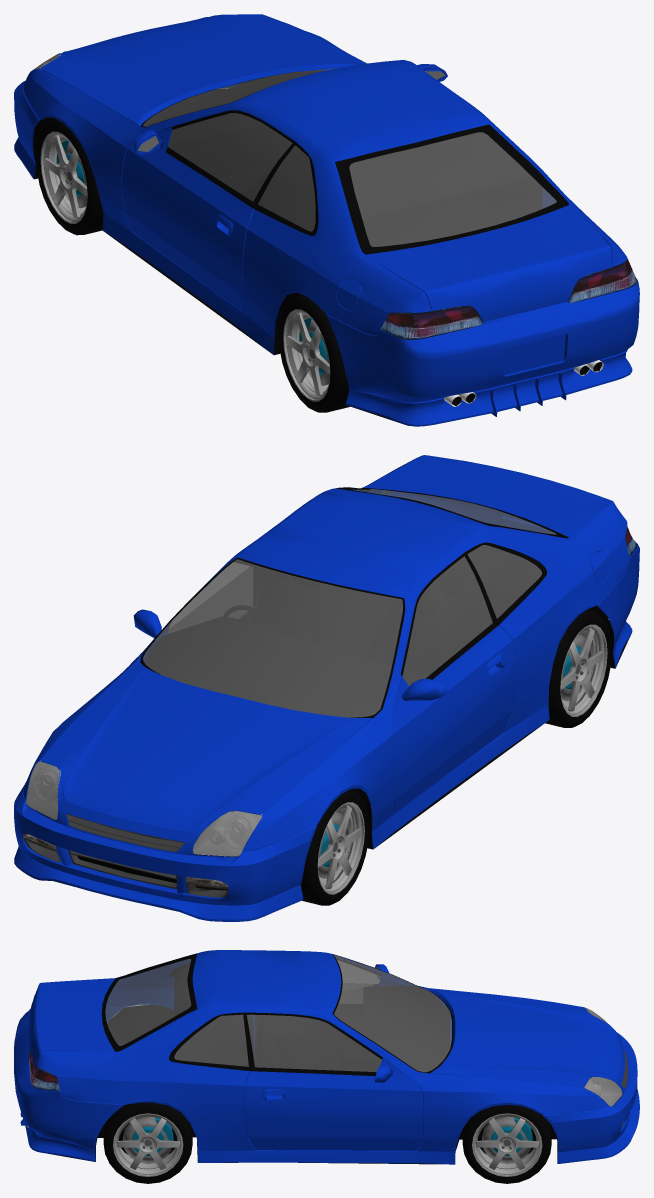
Rendered from prelude_lo.glb.
3 views of the same model, one above another, from view 1: azimuth 30°, elevation 25°; view 2: azimuth 150°, elevation 25°; view 3: azimuth 270°, elevation 25° (orthographic). The views are drawn at different scales.
Parts seen in each view (by area): view 1: body_Black_Metal_Paint_0, body_black4_0, body_Glass.001_0, object 6, fusedwheel_1 (×2), fusedwheel_3 (×2), object 9, mirrors_Black_Metal_Paint_0; view 2: body_Black_Metal_Paint_0, body_Glass.001_0, body_black4_0, Object_5_leather_black.001_0, fusedwheel_1 (×2), fusedwheel_3 (×2), object 6, body_glaaa_0, object 4, mirrors_Black_Metal_Paint_0; view 3: body_Black_Metal_Paint_0, body_Glass.001_0, body_black4_0, fusedwheel_0 (×4), fusedwheel_2 (×4), object 6, Object_5_leather_black.001_0, body_glaaa_0, object 9.
Boxes of the visible parts, box(x1,y1,x2,y2) form: body_Black_Metal_Paint_0: box(14, 14, 639, 426); body_black4_0: box(33, 70, 611, 421); body_Glass.001_0: box(143, 68, 556, 246); object 6: box(141, 70, 568, 254); fusedwheel_1 (×2): box(278, 294, 349, 412); fusedwheel_3 (×2): box(36, 118, 103, 235); object 9: box(380, 258, 637, 339); mirrors_Black_Metal_Paint_0: box(133, 64, 447, 154); body_Black_Metal_Paint_0: box(14, 455, 639, 921); body_Glass.001_0: box(143, 489, 555, 717); body_black4_0: box(36, 545, 628, 911); Object_5_leather_black.001_0: box(251, 572, 454, 674); fusedwheel_1 (×2): box(545, 610, 611, 727); fusedwheel_3 (×2): box(300, 789, 369, 905); object 6: box(140, 487, 568, 717); body_glaaa_0: box(26, 761, 261, 856); object 4: box(23, 813, 228, 897); mirrors_Black_Metal_Paint_0: box(133, 609, 447, 701); body_Black_Metal_Paint_0: box(14, 950, 639, 1164); body_Glass.001_0: box(105, 955, 451, 1072); body_black4_0: box(32, 965, 617, 1164); fusedwheel_0 (×4): box(103, 1102, 192, 1183); fusedwheel_2 (×4): box(462, 1106, 551, 1183); object 6: box(101, 953, 453, 1076); Object_5_leather_black.001_0: box(258, 1015, 296, 1068); body_glaaa_0: box(584, 1007, 622, 1106); object 9: box(29, 1002, 59, 1091).
Bounding box in the file's own units: 1.93 × 1.27 × 4.52.
Materials: 16 (2 with a texture image).
